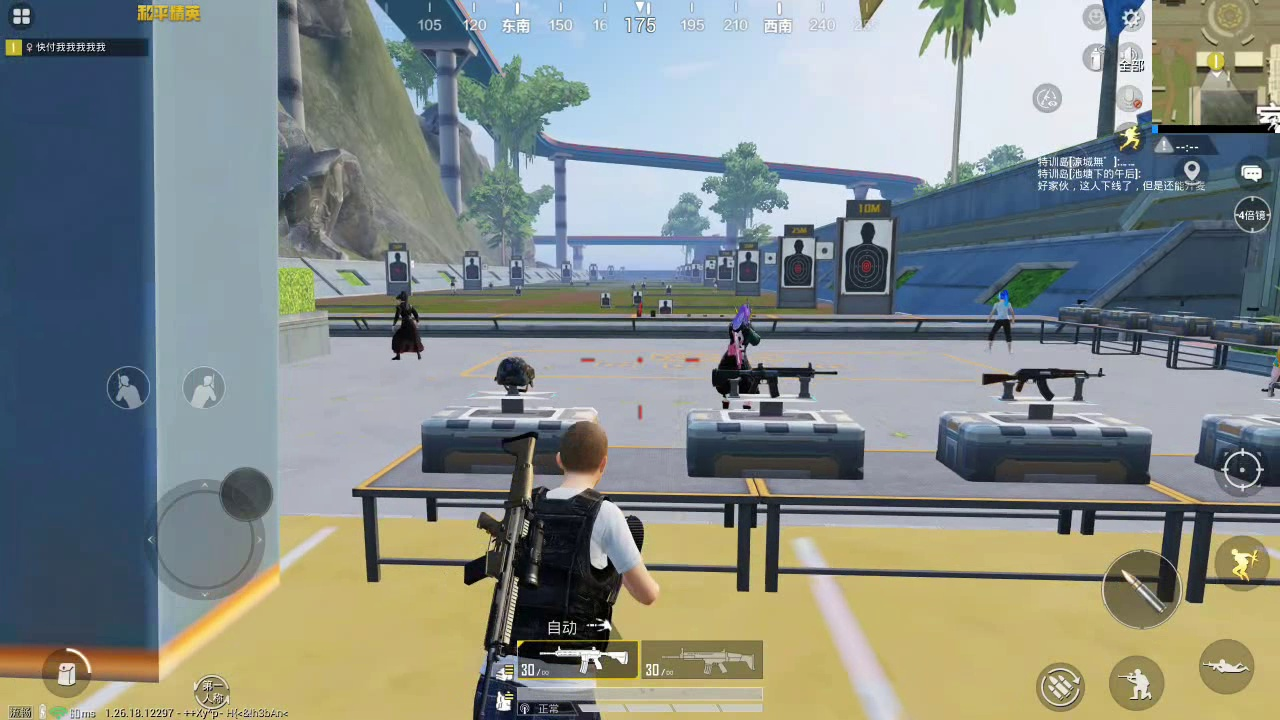enemy: (716, 302, 766, 377), (384, 288, 423, 358), (988, 286, 1015, 352)
